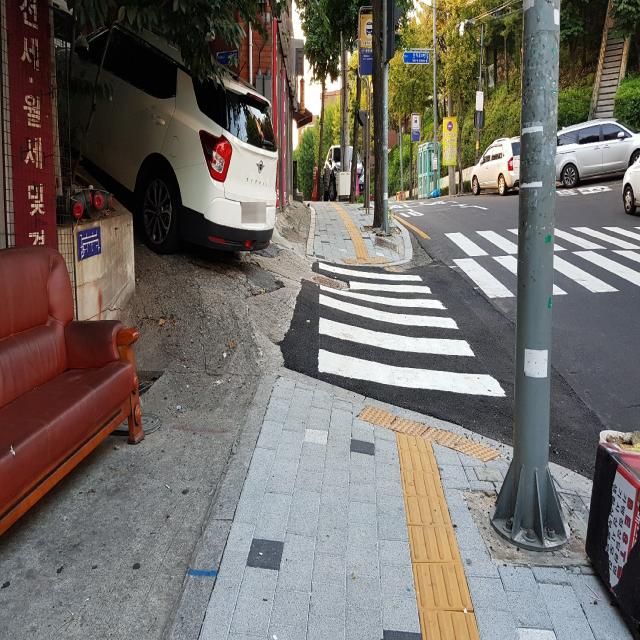횡단보도: (316, 259, 508, 401)
